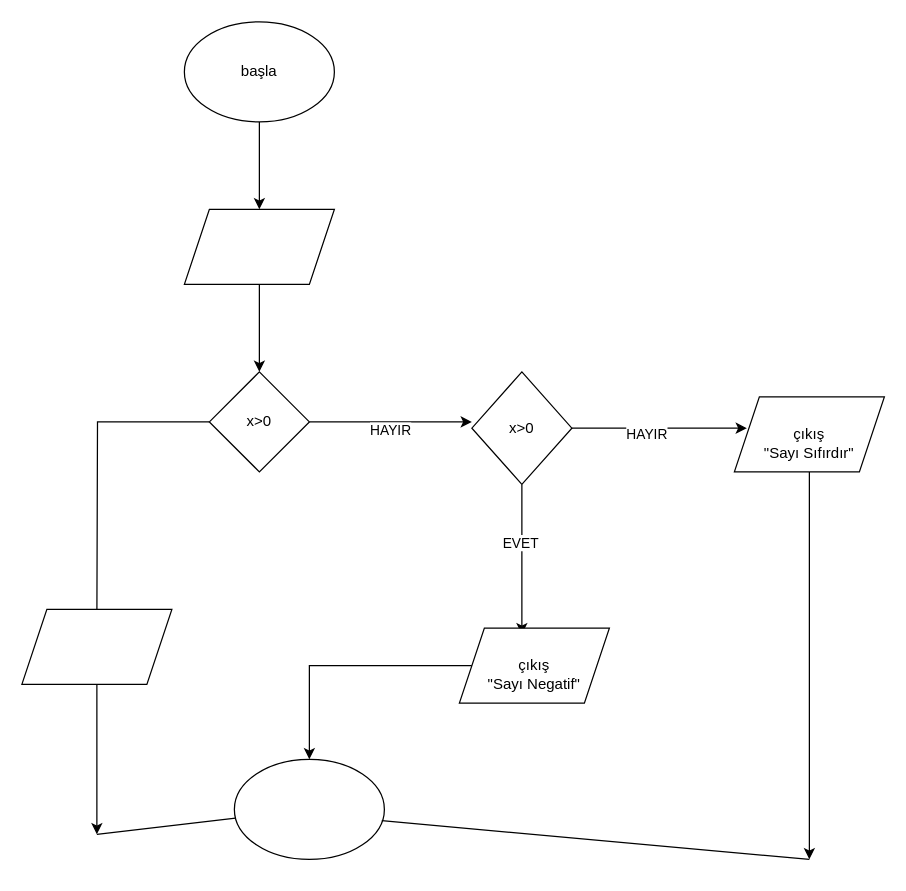
The diagram is 906 pixels wide and 891 high, and some of its shapes have lost their labels. The centre of each missing label's shape, as x and y in pixels:
dur: (x=308, y=808)
giriş "Sayıyı Giriniz:",X: (x=258, y=246)
çıkış "Sayı Pozitif": (x=96, y=646)
